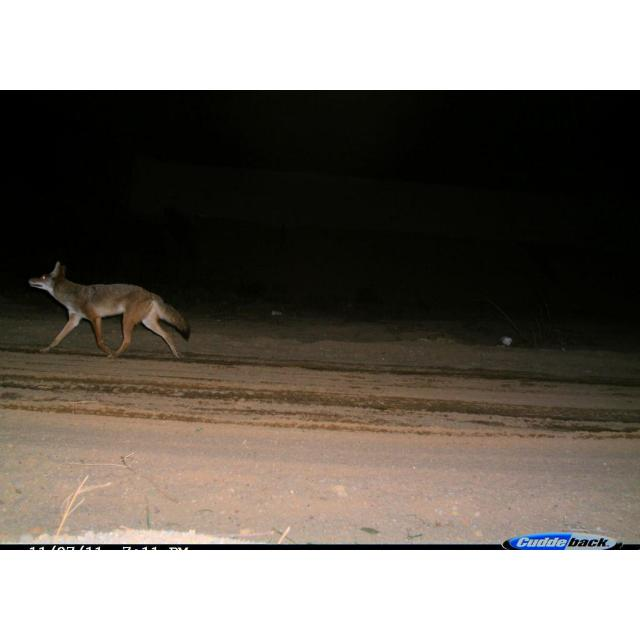animals: (28, 259, 192, 363)
